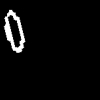chain: (4, 10, 24, 52)
